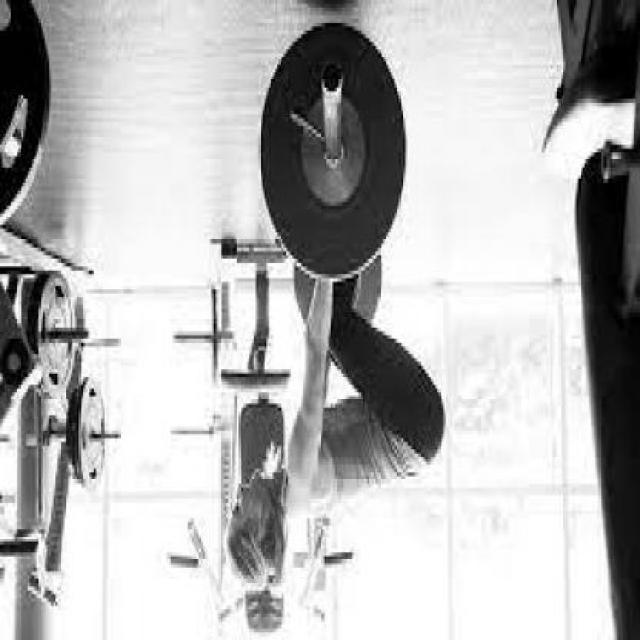Barbell: (321, 56, 344, 96)
